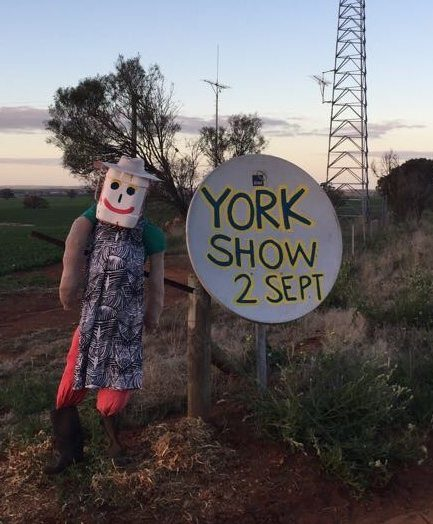person-like: (51, 150, 175, 419)
